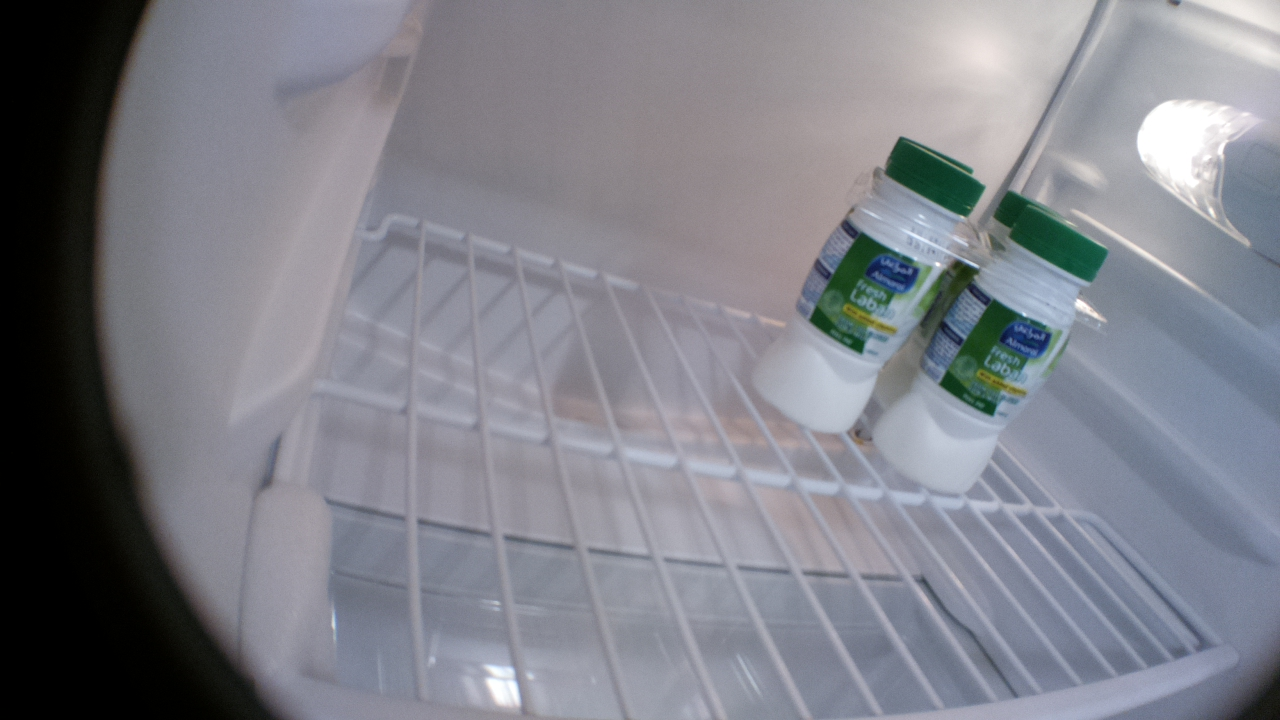laban: (874, 161, 1111, 494), (750, 114, 987, 432), (985, 173, 1085, 224)
